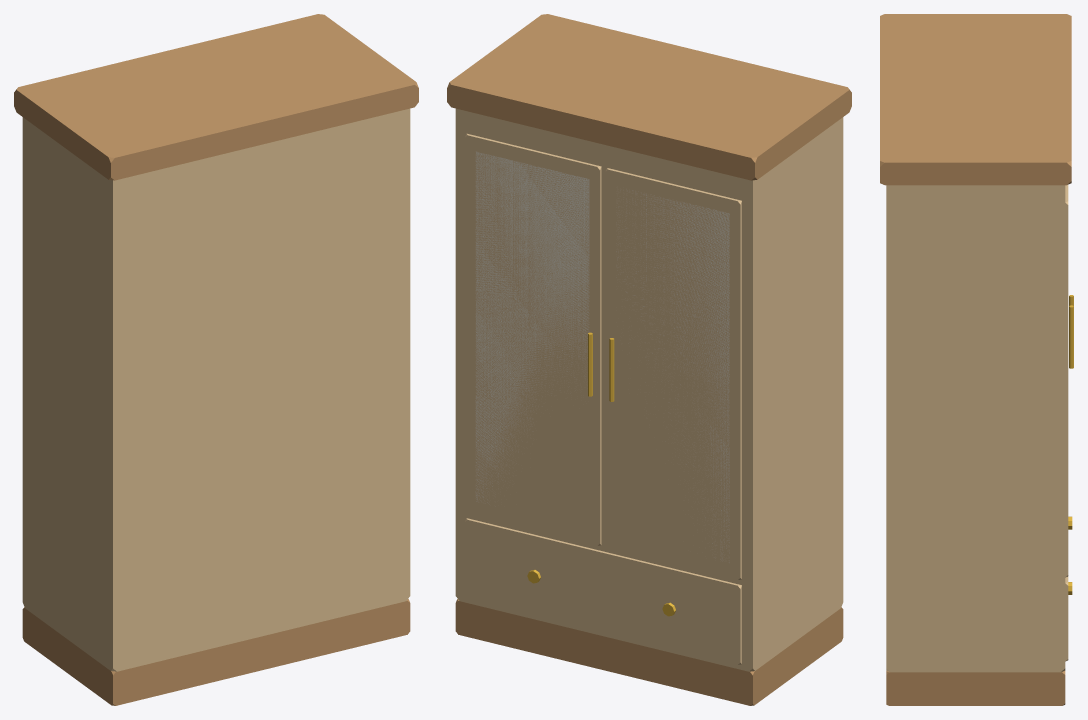
Rendered from Furniture_WardrobeCabinet.glb.
The picture shows the model from 3 angles, left to right: view 1: azimuth 30°, elevation 25°; view 2: azimuth 150°, elevation 25°; view 3: azimuth 270°, elevation 25°; orthographic projection.
Parts seen in each view (by area): view 1: Furniture_WardrobeCabinet; view 2: Furniture_WardrobeCabinet; view 3: Furniture_WardrobeCabinet.
Boxes of the visible parts, box(x1,y1,x2,y2) form: Furniture_WardrobeCabinet: box(14, 14, 418, 705); Furniture_WardrobeCabinet: box(447, 14, 851, 705); Furniture_WardrobeCabinet: box(880, 14, 1073, 705).
Bounding box in the file's own units: 1.14 × 1.95 × 0.628.
